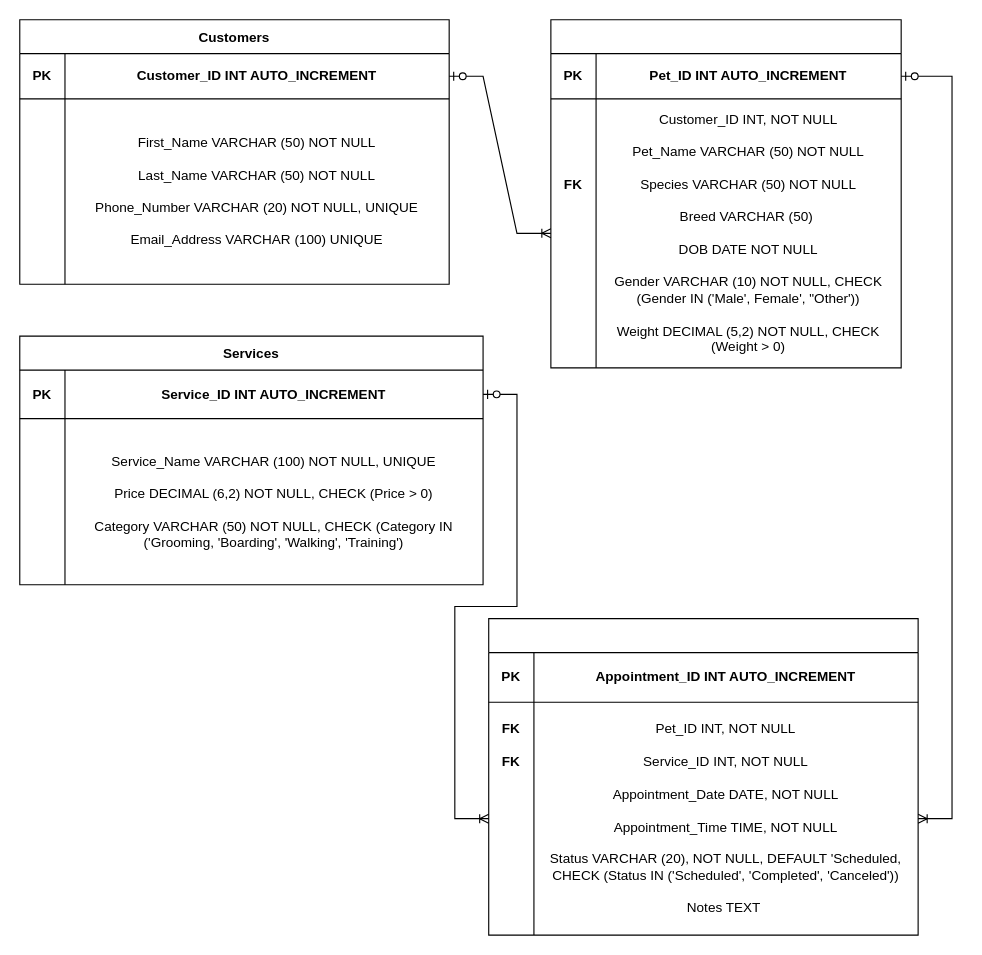
The diagram is 982 pixels wide and 955 high, and some of its shapes have lost their labels. The box of each missing label's shape, as (x1, y1, x2, y2) in pixels:
Appointments: (488, 618, 918, 935)
Pets: (550, 19, 901, 368)
